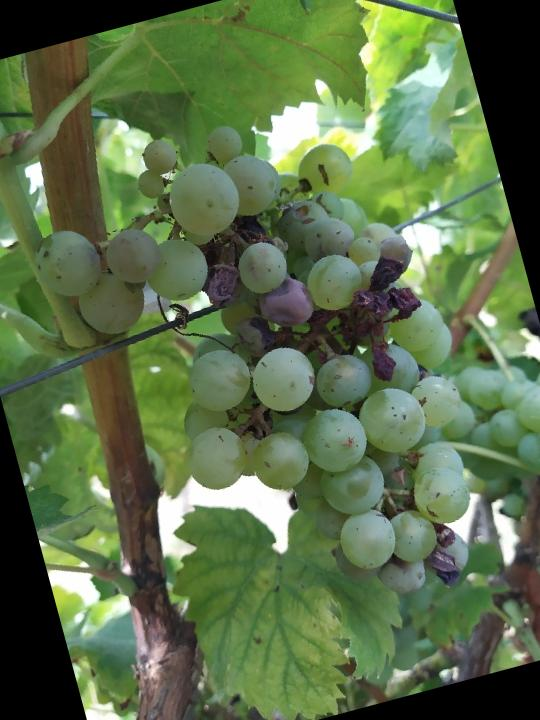grape: (8, 75, 520, 674)
